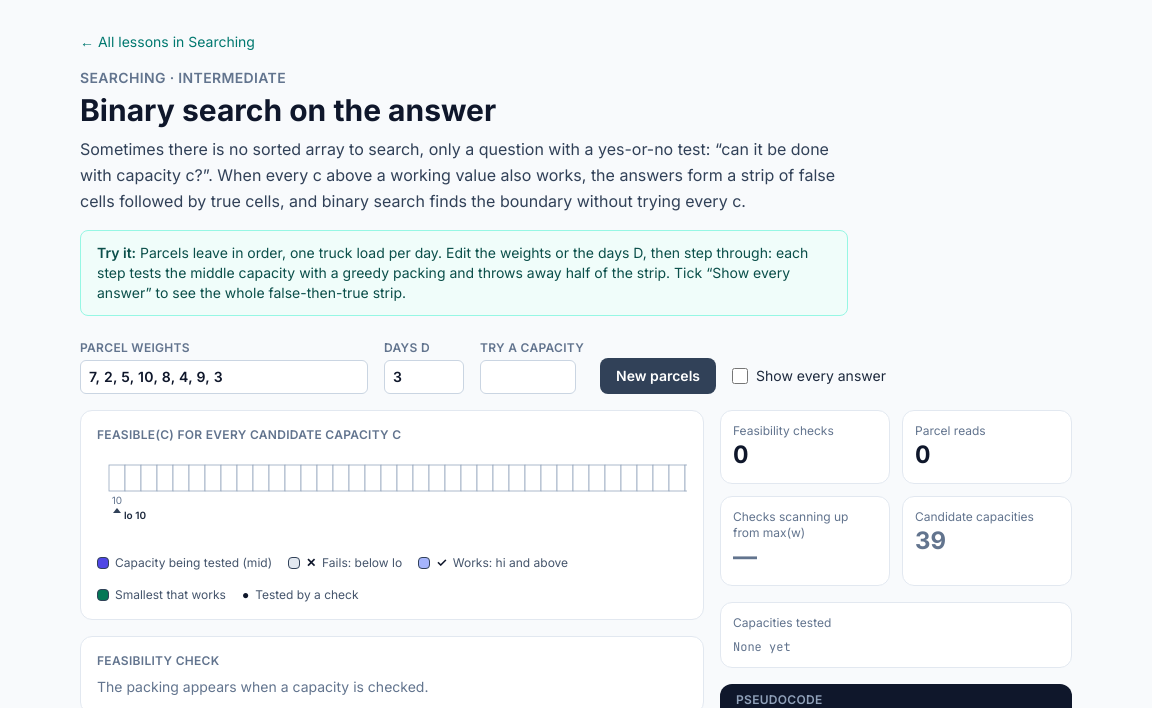
Scenario: binary search on the answer lesson › typed weights replace the parcels and clamp D
The image size is (1152, 708).
Replace the text in the field labelled "Parcel weights" with "15 15" at (224, 377), box [80, 360, 368, 394]
(page scrolled)
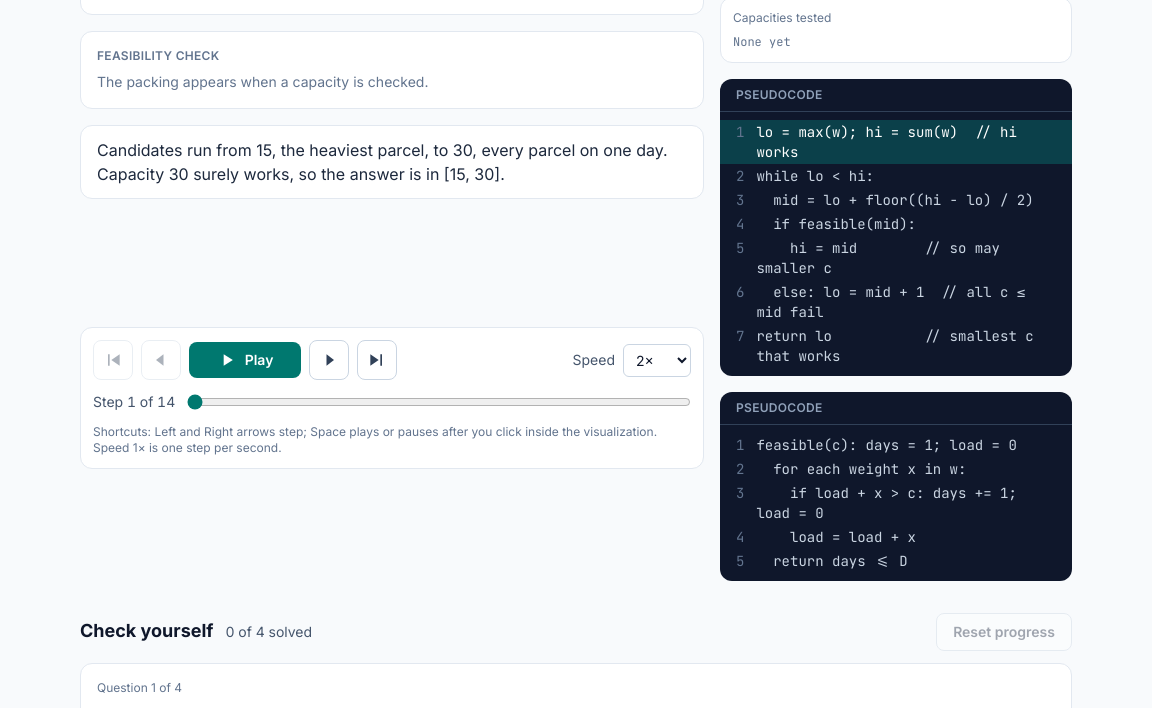
Click the button named "Last step" at (377, 360), box [357, 340, 397, 380]
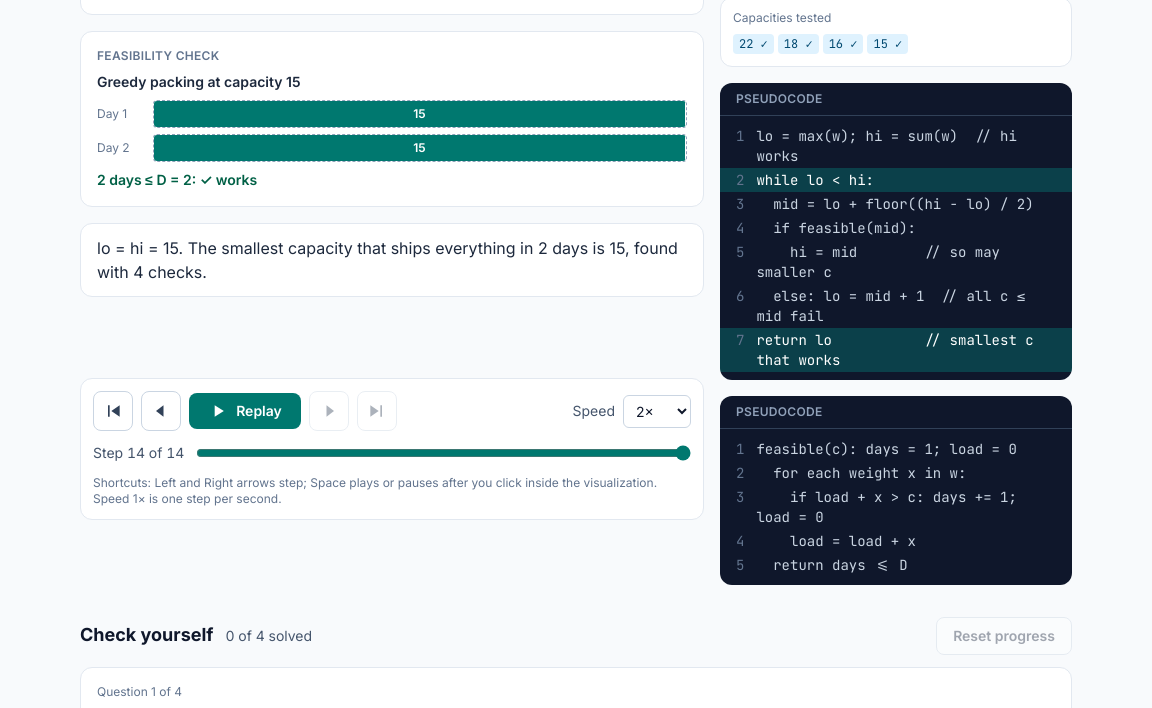
Check: the text "in 2 days is 15" is shown, box [97, 238, 678, 282]
